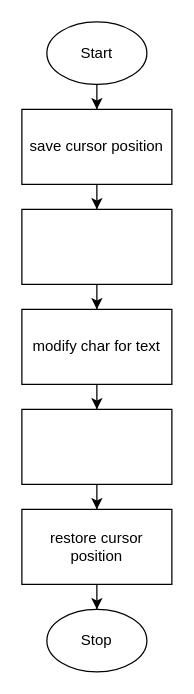
This 194x694 diagram has some shape labels left out. The shapes that lost their labels are listed below. From the top down, each one's centre as x and y in pixels, then its label:
At [96,246]: "move cursor to position for text".
At [96,446]: "output text".
